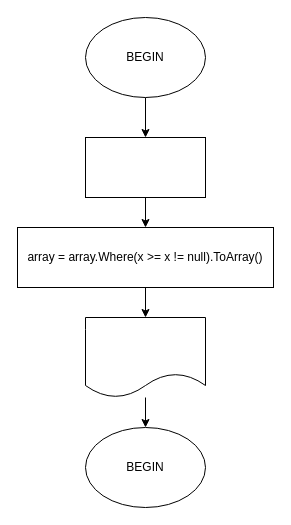
Image size: 291x525. Some labels were removed from this diagram. The centre of each missing label's shape, as x and y in pixels:
arrary [string]: [145,357]
array [string]: [145,167]
